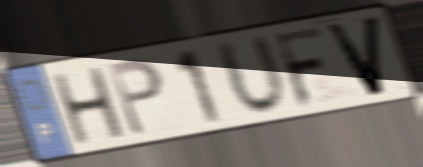1: (174, 45, 225, 127)
F: (271, 24, 331, 112)
H: (49, 64, 130, 149)
P: (104, 55, 167, 140)
U: (211, 31, 290, 119)
V: (321, 12, 387, 100)
